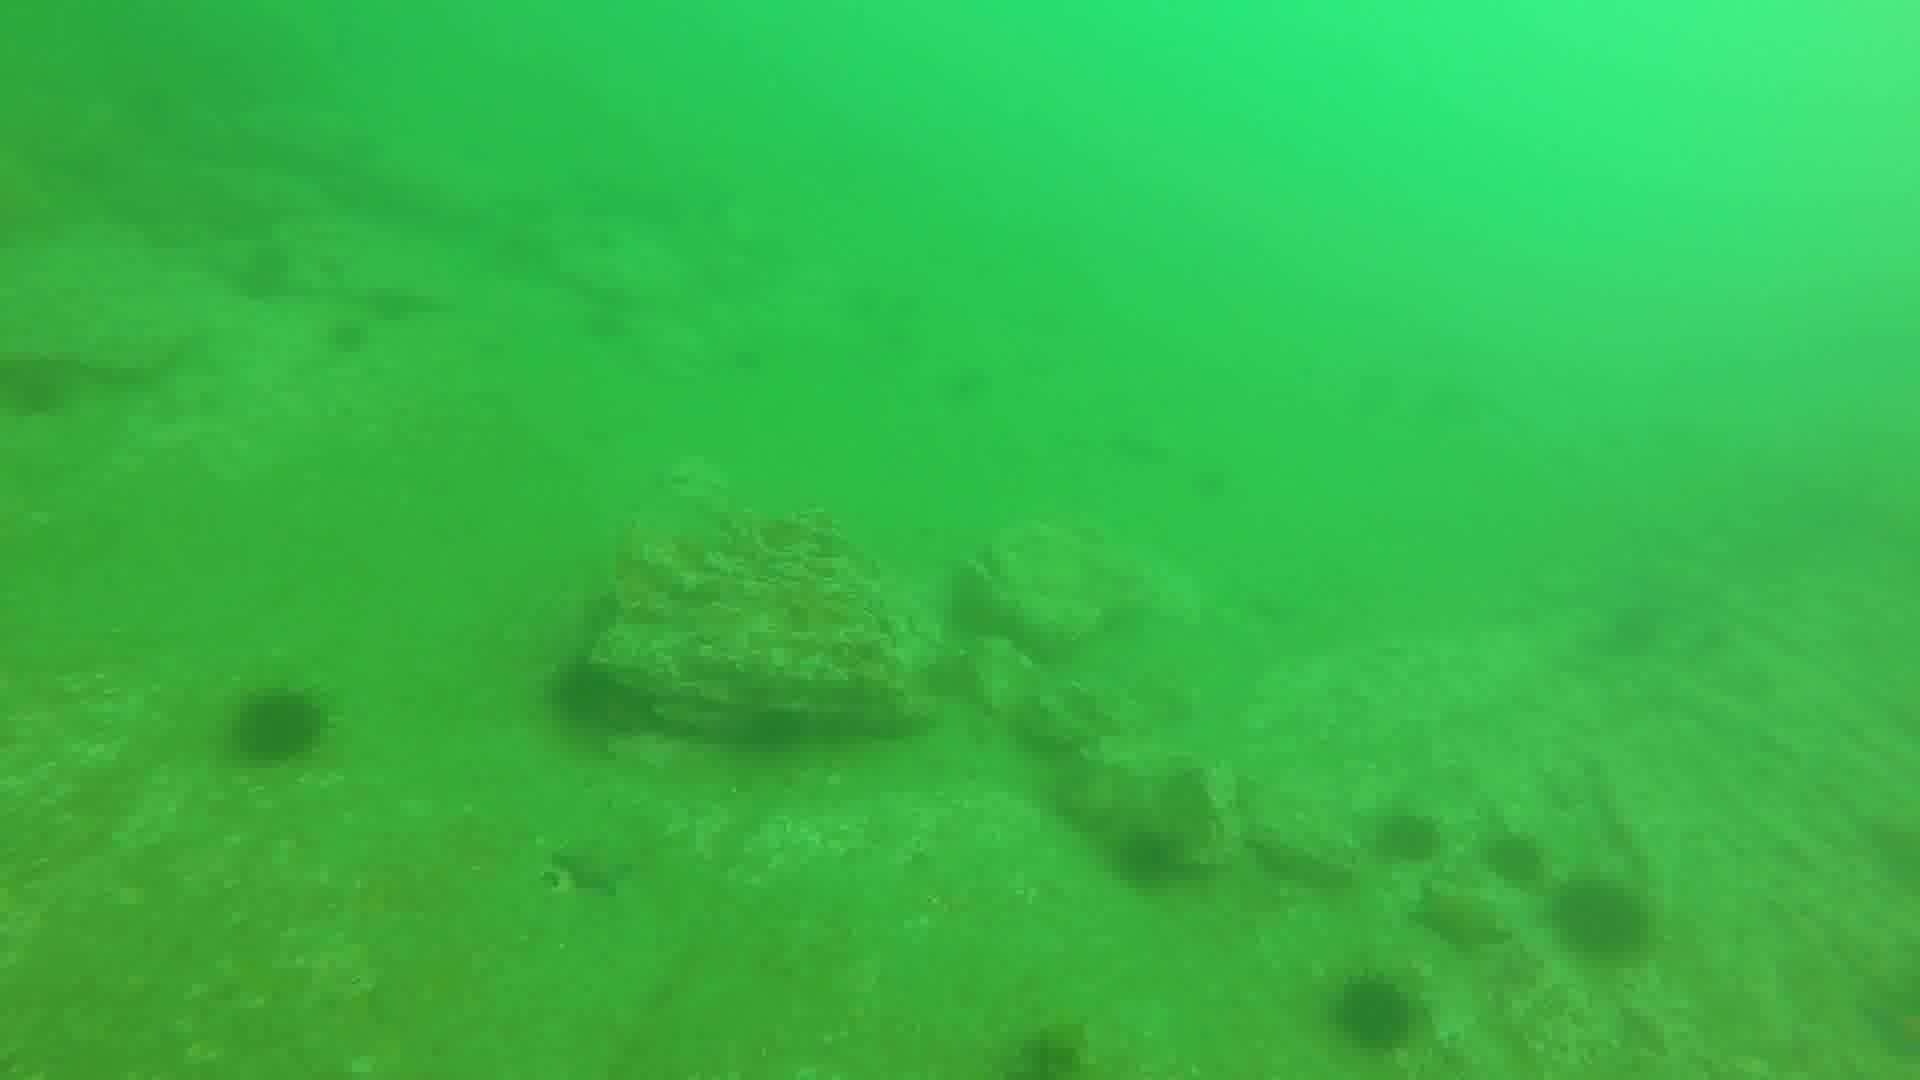echinus: (1548, 873, 1656, 968), (227, 683, 334, 769), (542, 653, 637, 741), (1328, 971, 1422, 1058), (1106, 822, 1189, 894), (0, 349, 76, 425), (1367, 804, 1447, 869), (1006, 1021, 1093, 1077), (1480, 827, 1551, 893), (319, 313, 375, 361)
starfish: (1408, 884, 1513, 957), (547, 831, 644, 899)
